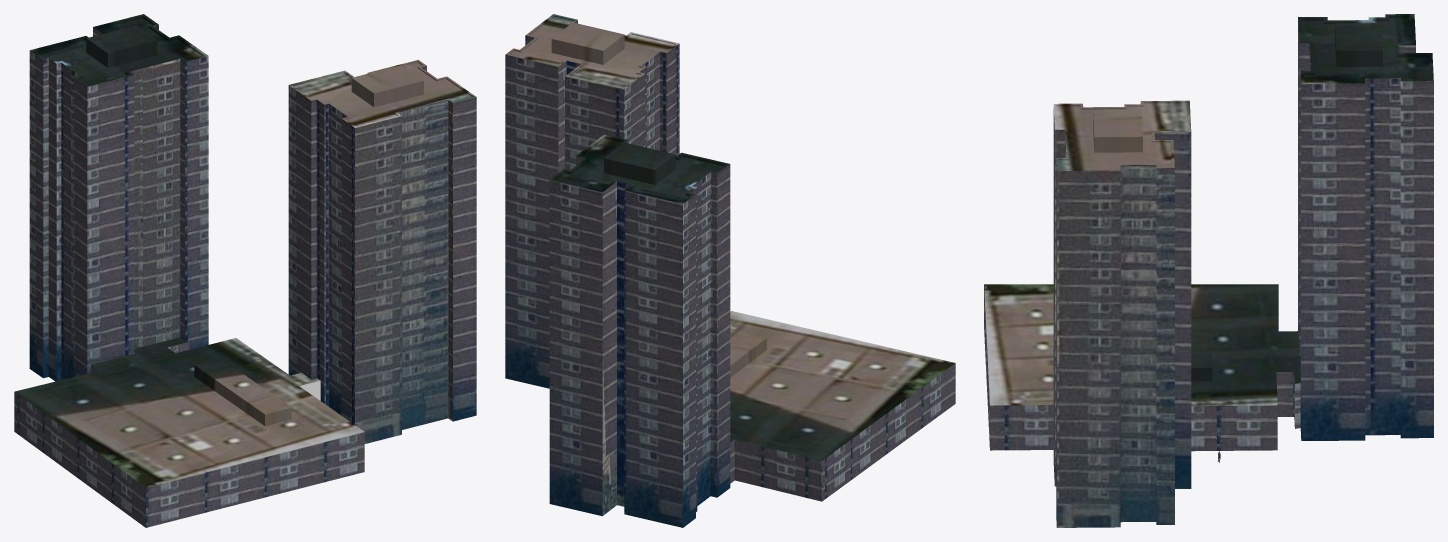
The model's file is lop.dae.
3 renders of one model, left to right at view 1: azimuth 30°, elevation 25°; view 2: azimuth 150°, elevation 25°; view 3: azimuth 270°, elevation 25°, orthographic. The views are drawn at different scales.
Visible parts, largest first — view 1: SketchUp (×15); view 2: SketchUp (×16); view 3: SketchUp (×17).
Part boxes in pixels (box(x1,y1,x2,y2)): SketchUp (×15): box(14, 14, 476, 527); SketchUp (×16): box(505, 14, 955, 527); SketchUp (×17): box(984, 14, 1433, 527).
Bounding box in the file's own units: 2568 × 2458 × 2238.
